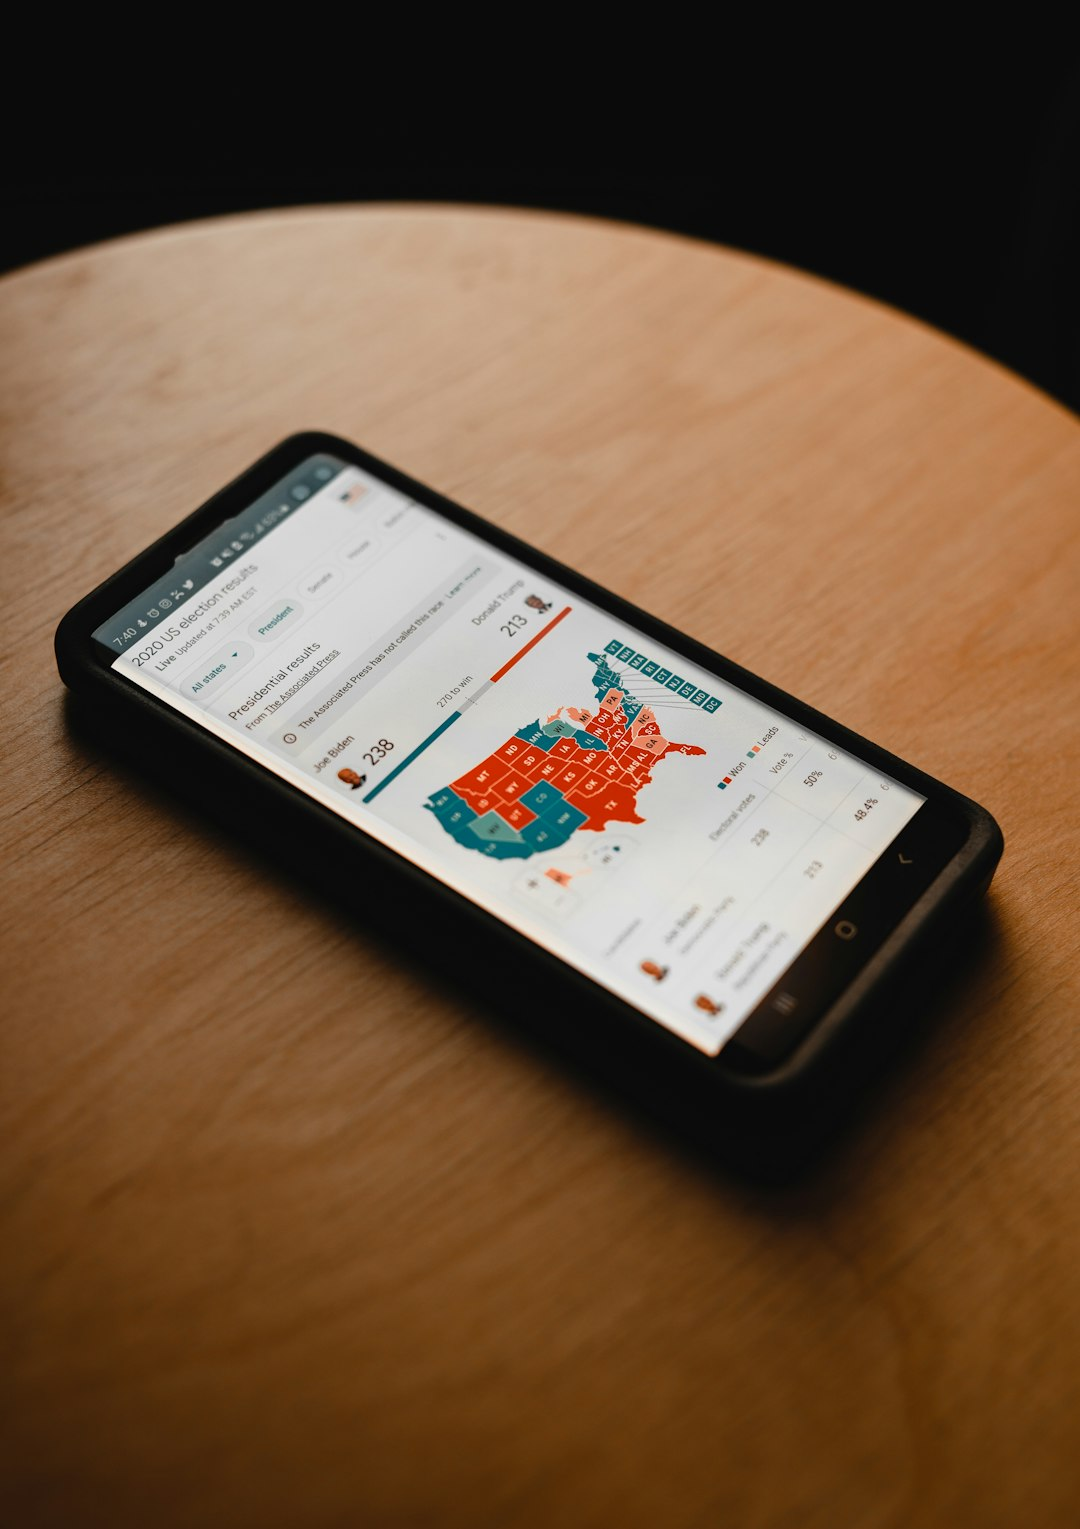phone: (54, 431, 1008, 1106)
